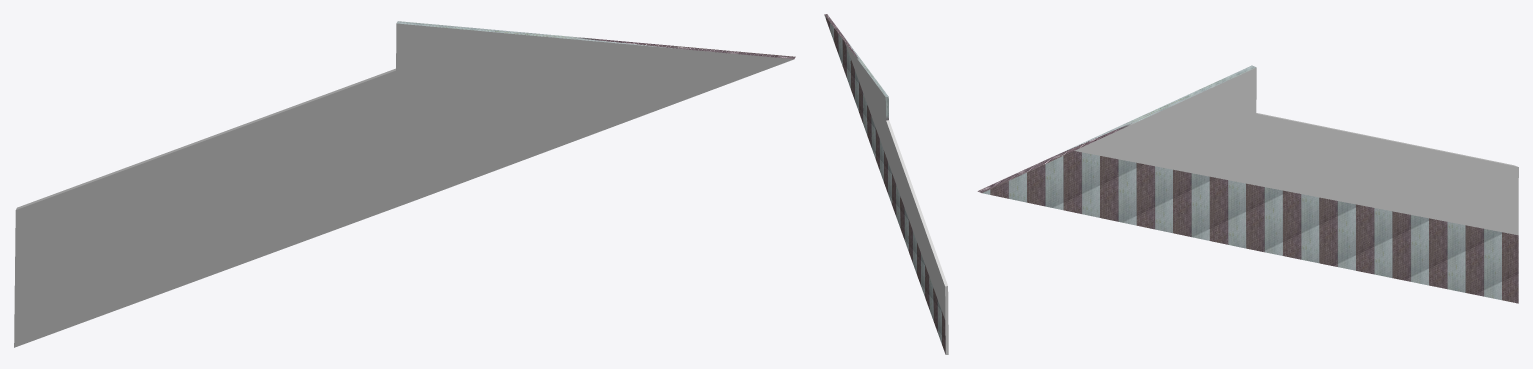
Rendered from pared_acceso.fbx.
3 views of the same model, side by side, from view 1: azimuth 30°, elevation 25°; view 2: azimuth 150°, elevation 25°; view 3: azimuth 270°, elevation 25° (orthographic). The views are drawn at different scales.
Visible parts, largest first — view 1: Pared; view 2: Pared; view 3: Pared.
Part boxes in pixels (<box>): Pared: <box>14,21,795,347</box>; Pared: <box>824,14,948,354</box>; Pared: <box>977,65,1518,303</box>.
Bounding box in the file's own units: 1819 × 1215 × 1655.
